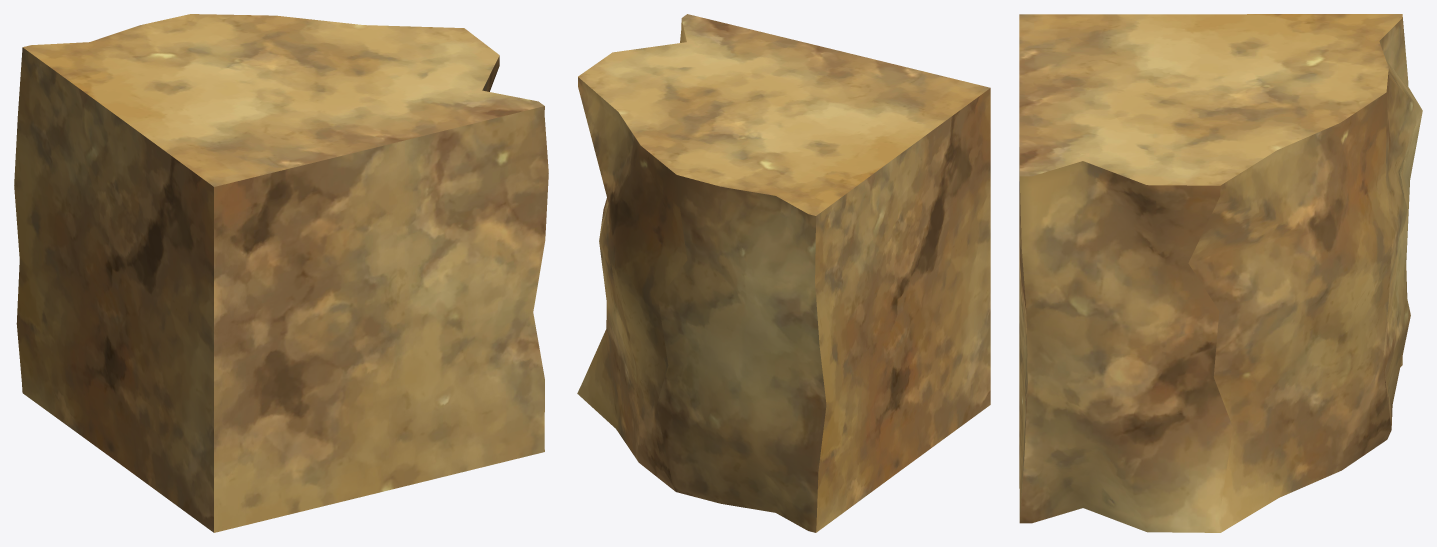
File: DirtEdge.fbx
3 views of the same model, side by side, from view 1: azimuth 30°, elevation 25°; view 2: azimuth 150°, elevation 25°; view 3: azimuth 270°, elevation 25° (orthographic). The views are drawn at different scales.
Visible parts, largest first — view 1: DirtEdge; view 2: DirtEdge; view 3: DirtEdge.
Part boxes in pixels (left/top/right/bottom): DirtEdge: left=14, top=14, right=548, bottom=532; DirtEdge: left=577, top=14, right=990, bottom=532; DirtEdge: left=1019, top=14, right=1422, bottom=532.
Size of the model in its own units: 217 by 200 by 211.
